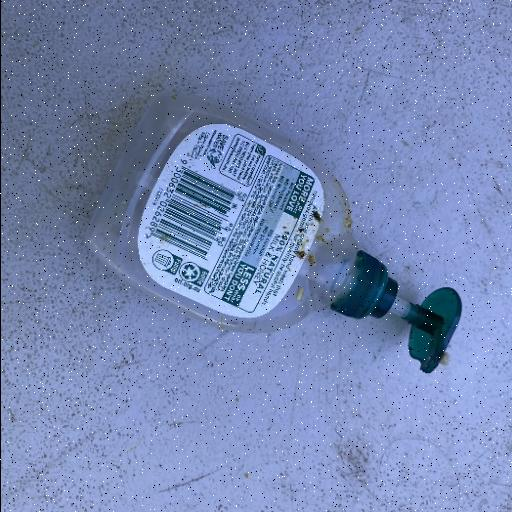Plastic: (82, 88, 464, 376)
